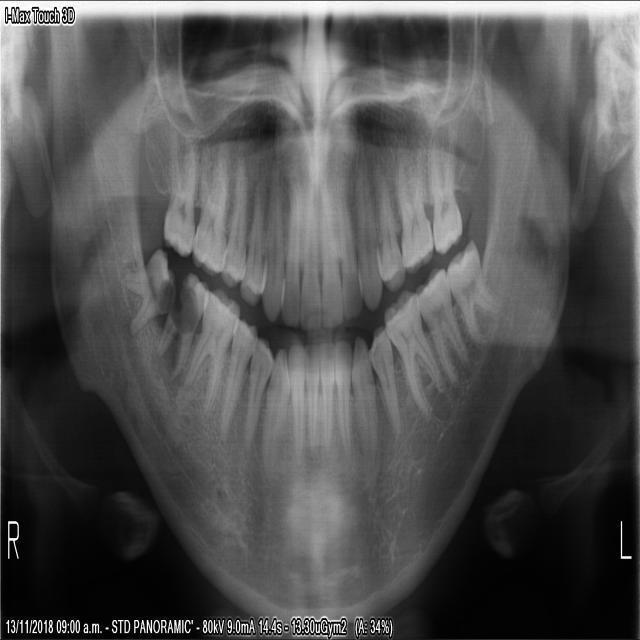LCD: (348, 331, 376, 469)
LCU: (352, 162, 381, 309)
LID: (332, 338, 350, 461), (317, 339, 332, 456)
LIU: (333, 192, 359, 319), (317, 191, 341, 327)
LMD: (414, 265, 466, 385), (445, 238, 497, 342)
LMU: (426, 139, 460, 253)
LPMD: (382, 288, 443, 412), (365, 322, 398, 433)
LPMU: (393, 152, 431, 273), (373, 164, 403, 290)
RCD: (259, 346, 289, 480)
RCU: (260, 175, 283, 321)
RID: (285, 340, 303, 469), (301, 342, 318, 458)
RIU: (277, 189, 299, 325), (297, 195, 318, 330)
RMD: (182, 285, 239, 411), (153, 269, 207, 381), (115, 245, 174, 333)
RMU: (188, 146, 227, 275), (160, 145, 195, 255)
RPMD: (217, 313, 254, 440), (242, 333, 272, 452)
RPMU: (237, 179, 265, 305), (218, 158, 244, 285)
